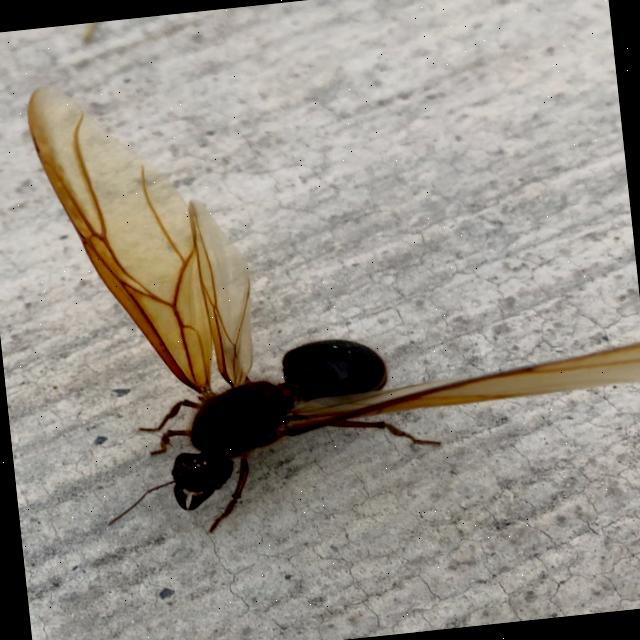Alive-Female-Alate: (24, 26, 640, 549)
